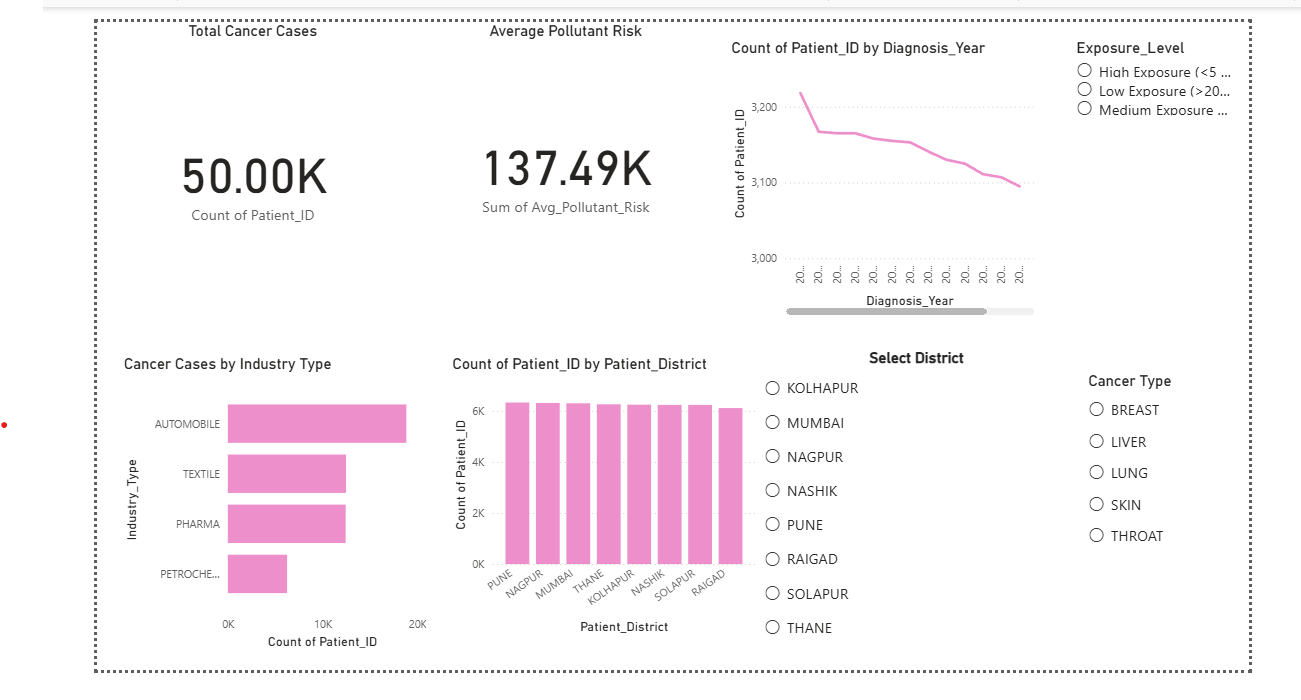

Layout of this report page (visuals, bound fields, positions):
{"tool":"powerbi","page":{"name":"Page 2","canvas":[1280,720],"ordinal":0},"visuals":[{"type":"clusteredColumnChart","fields":{"Category":["vw_Cancer_Industry_Analysis.Patient_District"],"Y":["CountNonNull(vw_Cancer_Industry_Analysis.Patient_ID)"]},"box":[390,370,346,314],"z":0},{"type":"barChart","title":"Cancer Cases by Industry Type","fields":{"Category":["vw_Cancer_Industry_Analysis.Industry_Type"],"Y":["CountNonNull(vw_Cancer_Industry_Analysis.Patient_ID)"]},"box":[24.8,370.4,345.6,330.3],"z":1000},{"type":"lineChart","fields":{"Category":["vw_Cancer_Industry_Analysis.Diagnosis_Year"],"Y":["CountNonNull(vw_Cancer_Industry_Analysis.Patient_ID)"]},"box":[700,18,346,312],"z":2000},{"type":"card","title":"Total Cancer Cases","fields":{"Values":["CountNonNull(vw_Cancer_Industry_Analysis.Patient_ID)"]},"box":[0,0,346,330],"z":3000},{"type":"card","title":"Average Pollutant Risk","fields":{"Values":["Sum(vw_Cancer_Industry_Analysis.Avg_Pollutant_Risk)"]},"box":[346,0,348,312],"z":4000},{"type":"listSlicer","title":"Select District","fields":{"Values":["vw_Cancer_Industry_Analysis.Patient_District"]},"box":[736,364,348,336],"z":5000},{"type":"listSlicer","title":"Cancer Type","fields":{"Values":["vw_Cancer_Industry_Analysis.Cancer_Type"]},"box":[1096,388,184,312],"z":6000},{"type":"listSlicer","fields":{"Values":["vw_Cancer_Industry_Analysis.Exposure_Level"]},"box":[1084,18,184,204],"z":7000}]}

Visuals, with their boxes in screenshot pixels (x1, y1, x2, y2):
clusteredColumnChart - vw_Cancer_Industry_Analysis.Patient_District x CountNonNull(vw_Cancer_Industry_Analysis.Patient_ID): bbox=(304, 363, 624, 654)
"Cancer Cases by Industry Type" barChart: bbox=(0, 364, 286, 670)
lineChart - vw_Cancer_Industry_Analysis.Diagnosis_Year x CountNonNull(vw_Cancer_Industry_Analysis.Patient_ID): bbox=(591, 37, 912, 326)
"Total Cancer Cases" card: bbox=(0, 20, 263, 326)
"Average Pollutant Risk" card: bbox=(263, 20, 585, 309)
"Select District" listSlicer: bbox=(624, 358, 947, 669)
"Cancer Type" listSlicer: bbox=(958, 380, 1128, 669)
listSlicer - vw_Cancer_Industry_Analysis.Exposure_Level: bbox=(947, 37, 1117, 226)
